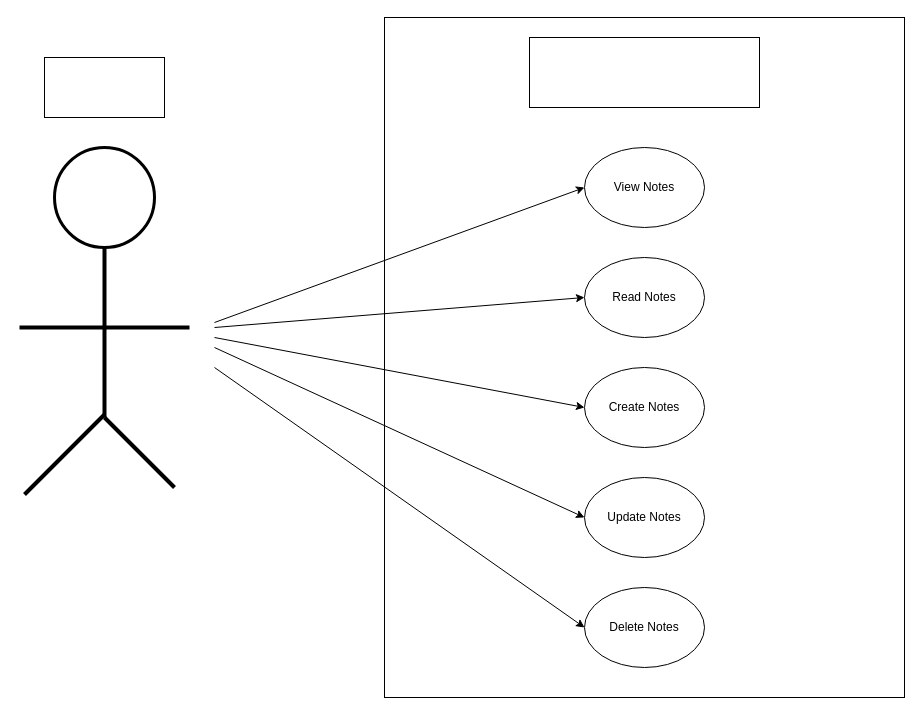
This 922x715 diagram has some shape labels left out. The centre of each missing label's shape, as x and y in pixels:
Sticky Note Application: (x=644, y=72)
User: (x=104, y=87)
